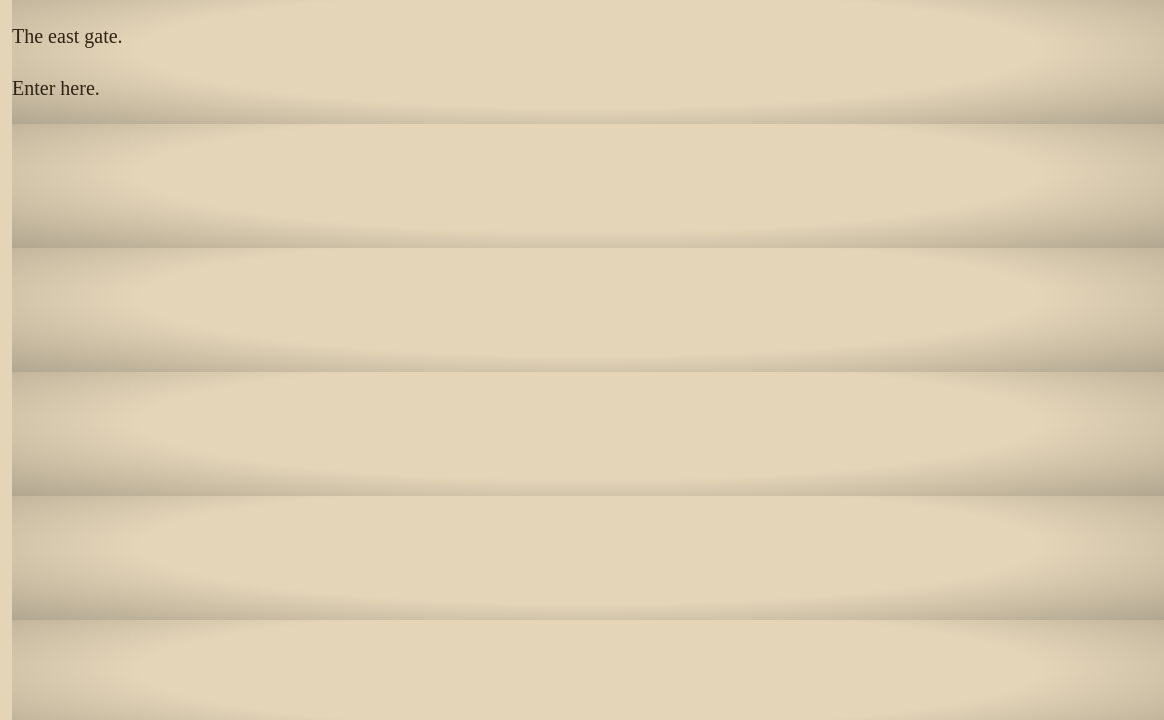
PassagePage › peek › replaces the word when another glyph is tapped
The image size is (1164, 720).
Click the text "T" at x=18, y=36, box [12,25,24,47]
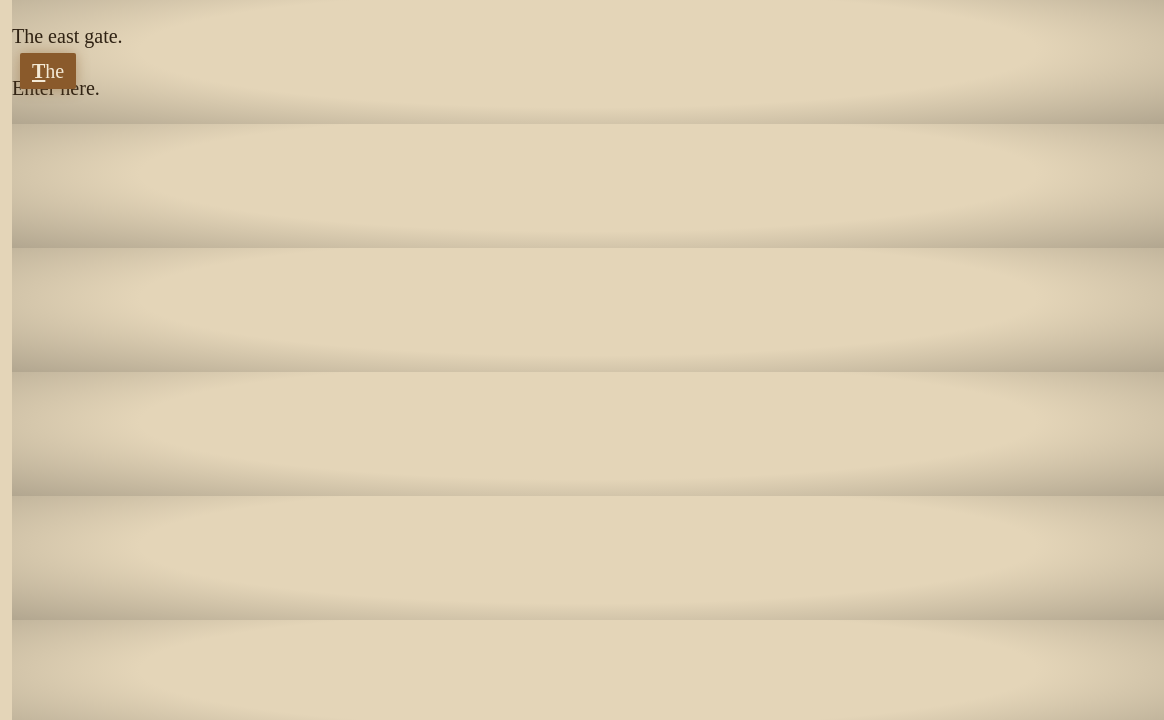
Click the 6th text "e" at x=90, y=88, box [86,77,95,99]
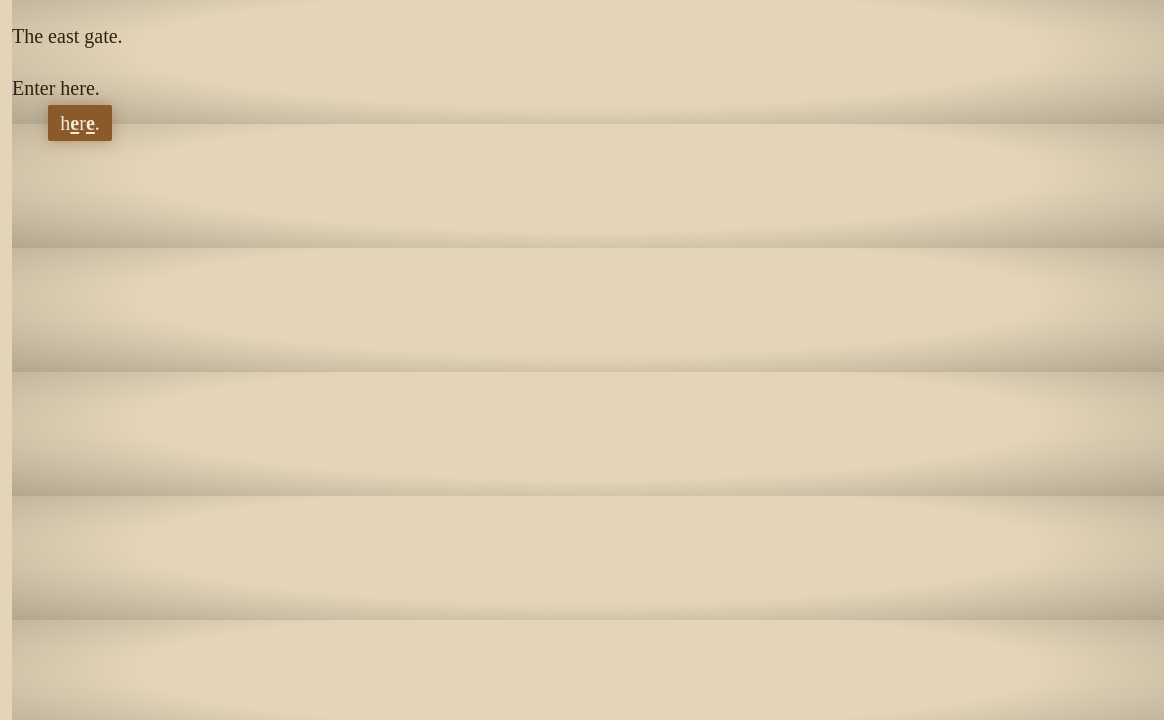
Expected: the number of tooltips is 1, [48,105,112,141]
Expected: the tooltip reads "here.", [48,105,112,141]
